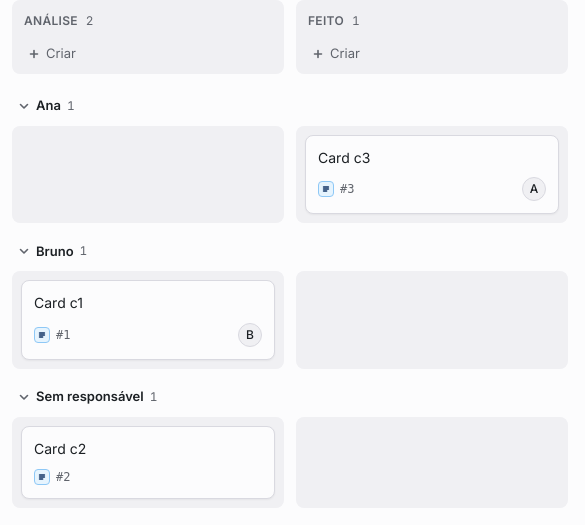
o quadro com raias › a raia recolhe e abre
The width and height of the screenshot is (585, 525).
Click the button "Ana 1".
click(46, 106)  # box [12,90,81,122]
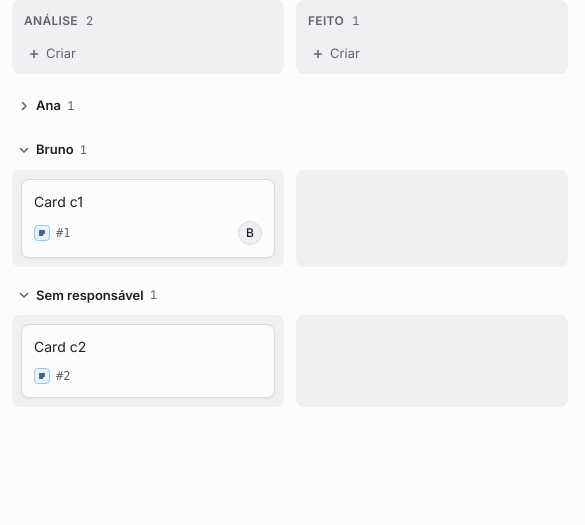
Expected: the button "Ana 1" is collapsed
Click the button "Ana 1".
click(46, 106)  # box [12,90,81,122]
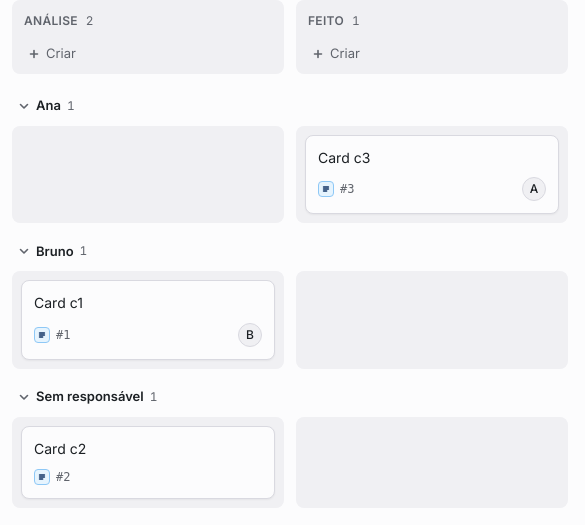
Expected: the element named "Feito, Ana" is shown, [296,126,568,223]
